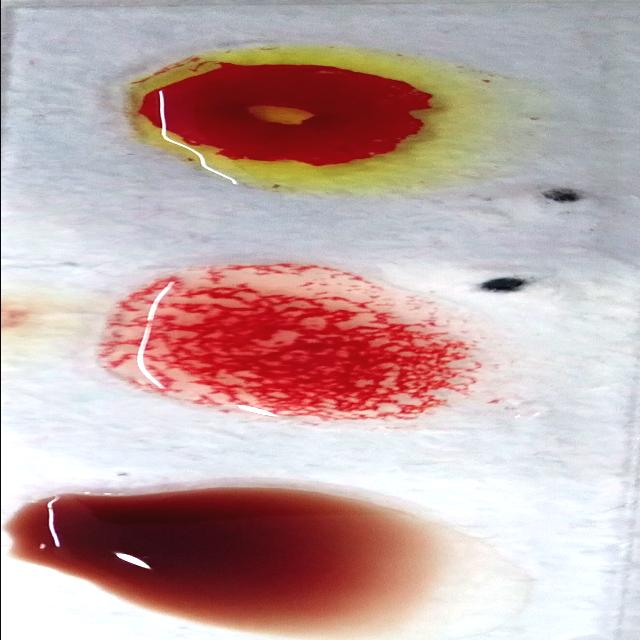B: (115, 44, 537, 192)
D: (96, 266, 506, 424)
